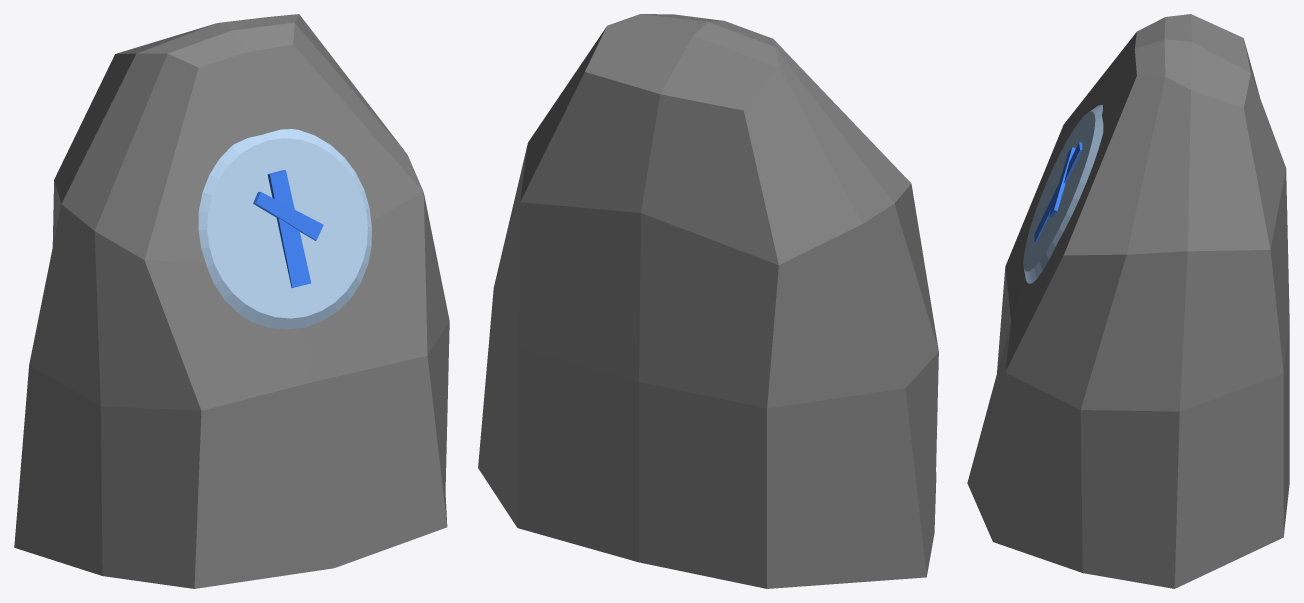
The model's file is rune-bleu.fbx.
3 views of the same model, side by side, from view 1: azimuth 30°, elevation 25°; view 2: azimuth 150°, elevation 25°; view 3: azimuth 270°, elevation 25° (orthographic). The views are drawn at different scales.
Visible parts, largest first — view 1: Cube; view 2: Cube; view 3: Cube.
Boxes of the visible parts, x1=… form: Cube: x1=14, y1=14, x2=449, y2=588; Cube: x1=478, y1=14, x2=938, y2=588; Cube: x1=967, y1=14, x2=1289, y2=588.
Bounding box in the file's own units: 260 × 277 × 178.
